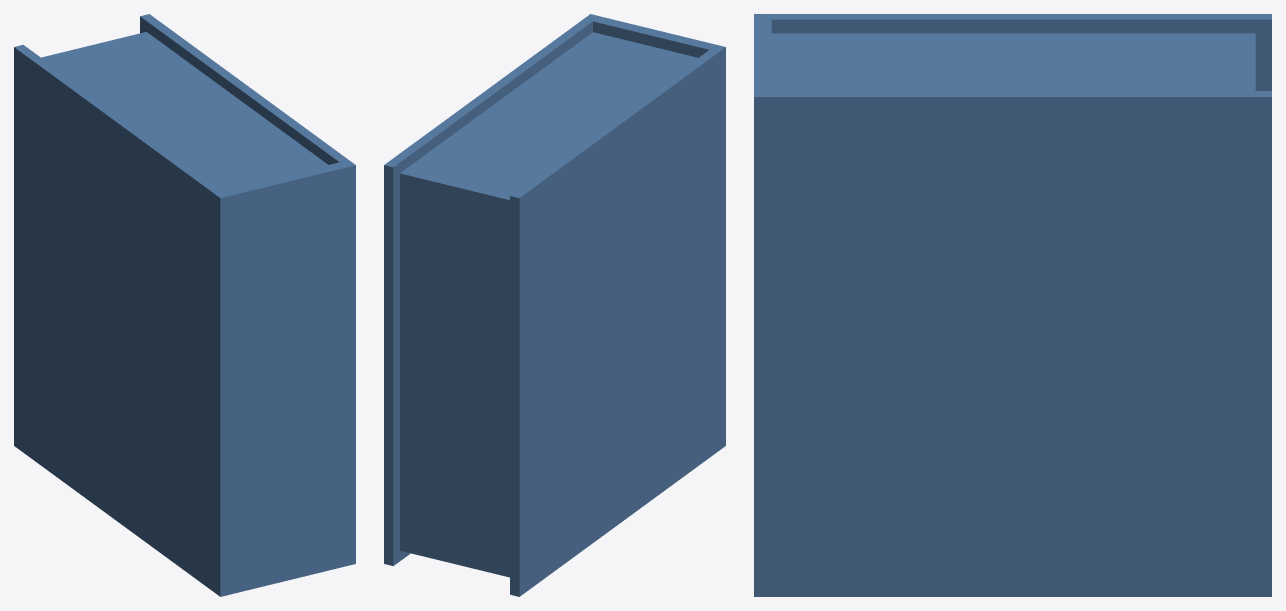
File: 09_book_fat.glb
The picture shows the model from 3 angles, left to right: view 1: azimuth 30°, elevation 25°; view 2: azimuth 150°, elevation 25°; view 3: azimuth 270°, elevation 25°; orthographic projection. The views are drawn at different scales.
Parts seen in each view (by area): view 1: Book_Fat; view 2: Book_Fat; view 3: Book_Fat.
Boxes of the visible parts, <box> form: Book_Fat: <box>14,14,355,596</box>; Book_Fat: <box>384,14,725,596</box>; Book_Fat: <box>754,14,1271,596</box>.
Size of the model in its own units: 0.0929 by 0.2612 by 0.2451.
